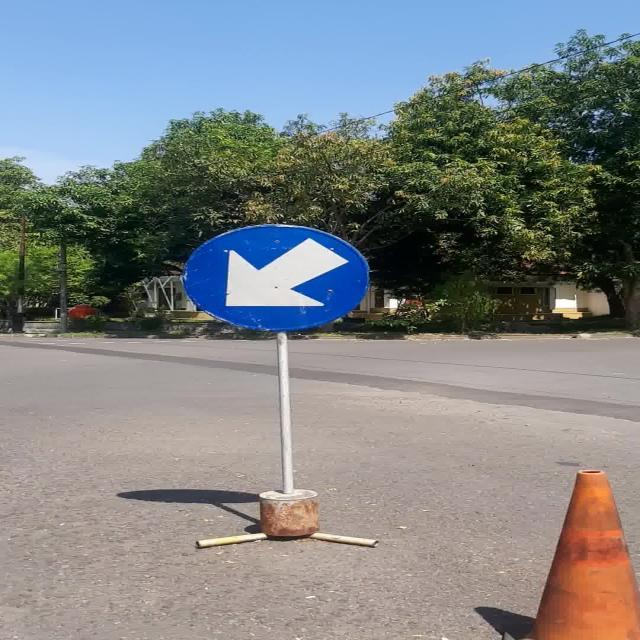Lajur Kiri: (184, 224, 369, 330)
